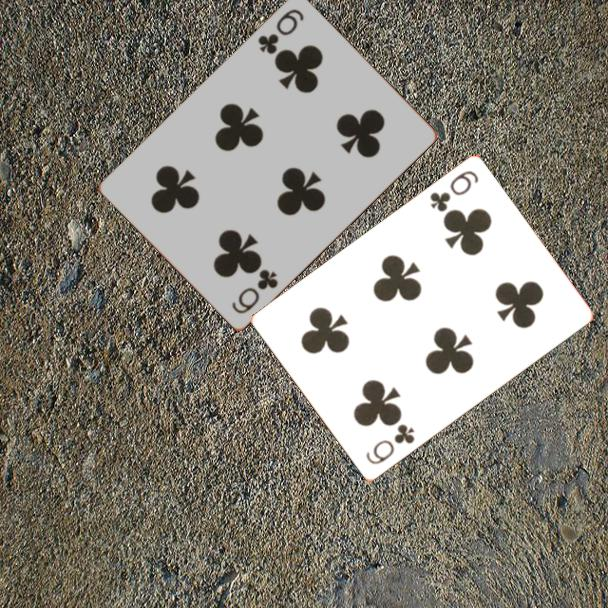c06: (254, 6, 307, 58), (228, 266, 281, 317), (426, 167, 481, 215), (362, 421, 418, 468)
